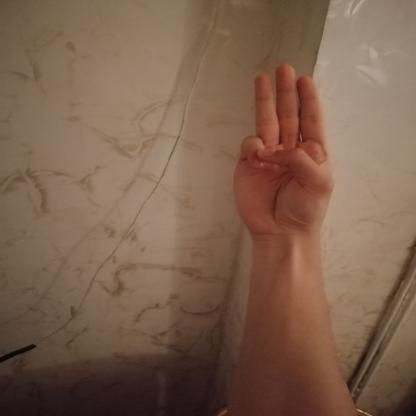THA: (218, 54, 344, 245)
